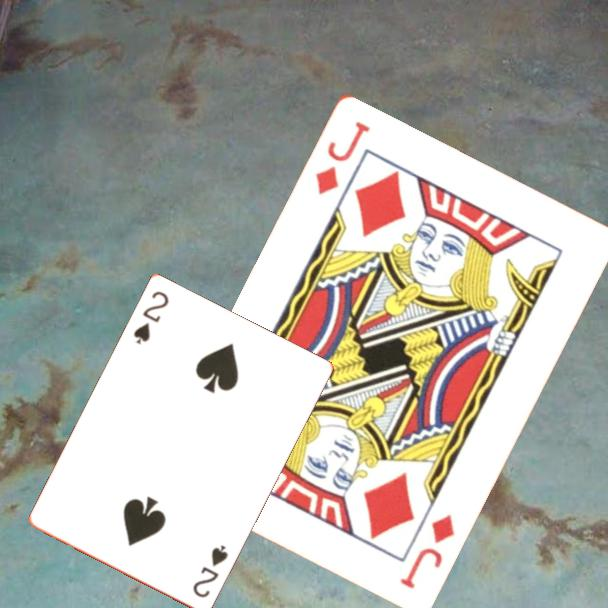d11: (395, 510, 458, 591), (311, 117, 373, 197)
s02: (130, 288, 172, 348), (189, 542, 231, 601)
